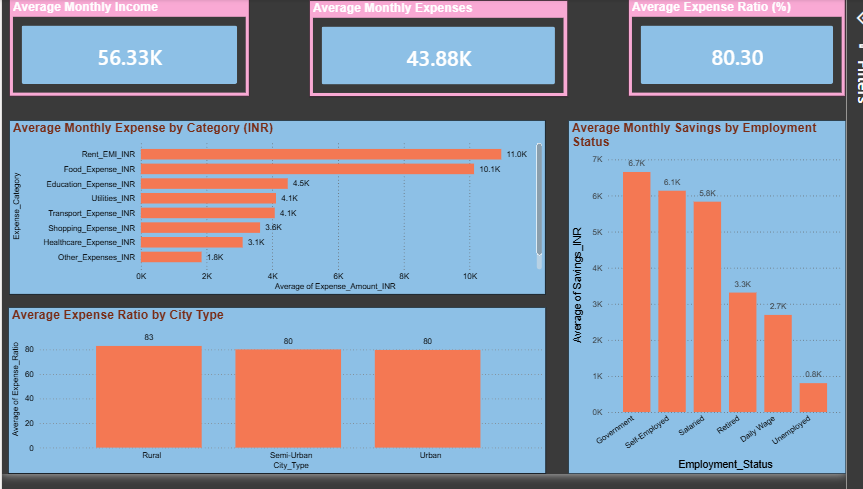

This screenshot's page, from the dashboard's own definition file:
{"tool":"powerbi","page":{"name":"Income & Expenses","canvas":[1280,720],"ordinal":1},"visuals":[{"type":"cardVisual","title":"Average Monthly Income","fields":{"Data":["Avg(HouseholdData.Monthly_Income_INR)"]},"box":[10,0,365,148.3],"z":0},{"type":"cardVisual","title":"Average Monthly Expenses","fields":{"Data":["Avg(HouseholdData.Total_Expenses_INR)"]},"box":[465.6,1.5,392.8,147.1],"z":1000},{"type":"cardVisual","title":"Average Expense Ratio (%)","fields":{"Data":["Avg(HouseholdData.Expense_Ratio)"]},"box":[950,0,330,148.3],"z":2000},{"type":"clusteredBarChart","title":"Average Monthly Expense by Category (INR)","fields":{"Category":["ExpenseData.Expense_Category"],"Y":["Avg(ExpenseData.Expense_Amount_INR)"]},"box":[10.6,183.5,814.4,265.4],"z":3000},{"type":"clusteredColumnChart","title":"Average Expense Ratio by City Type","fields":{"Category":["HouseholdData.City_Type"],"Y":["Avg(HouseholdData.Expense_Ratio)"]},"box":[9.1,467.1,815.9,253.3],"z":4000},{"type":"clusteredColumnChart","title":"Average Monthly Savings by Employment Status","fields":{"Category":["HouseholdData.Employment_Status"],"Y":["Avg(HouseholdData.Savings_INR)"]},"box":[858.4,183.5,421.6,536.9],"z":5000}]}

Visuals, with their boxes in screenshot pixels (x1, y1, x2, y2), scaled from the page's 1280x720 canvas onto the 863x489 screenshot:
"Average Monthly Income" cardVisual: <region>7, 0, 253, 101</region>
"Average Monthly Expenses" cardVisual: <region>314, 1, 579, 101</region>
"Average Expense Ratio (%)" cardVisual: <region>641, 0, 862, 101</region>
"Average Monthly Expense by Category (INR)" clusteredBarChart: <region>7, 125, 556, 305</region>
"Average Expense Ratio by City Type" clusteredColumnChart: <region>6, 317, 556, 488</region>
"Average Monthly Savings by Employment Status" clusteredColumnChart: <region>579, 125, 862, 488</region>
